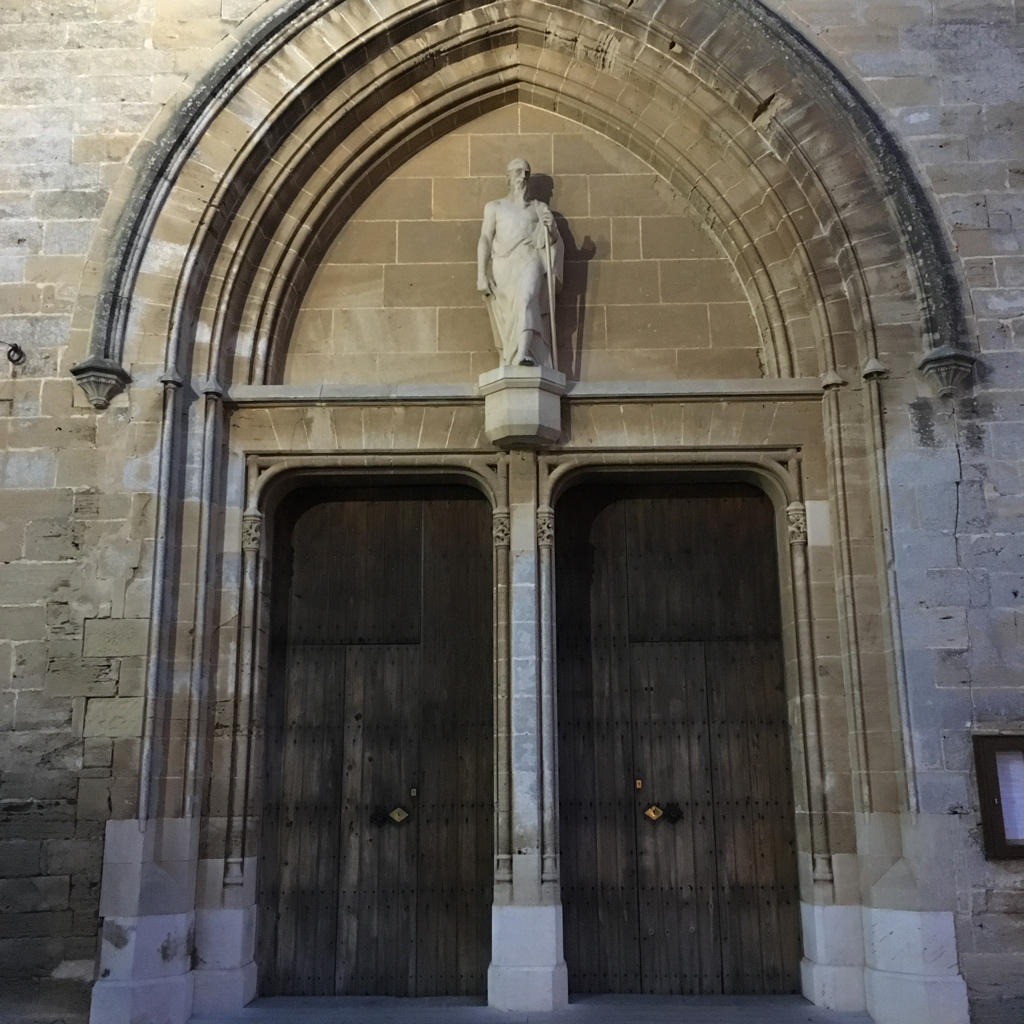arco-apuntado: (205, 2, 838, 389)
